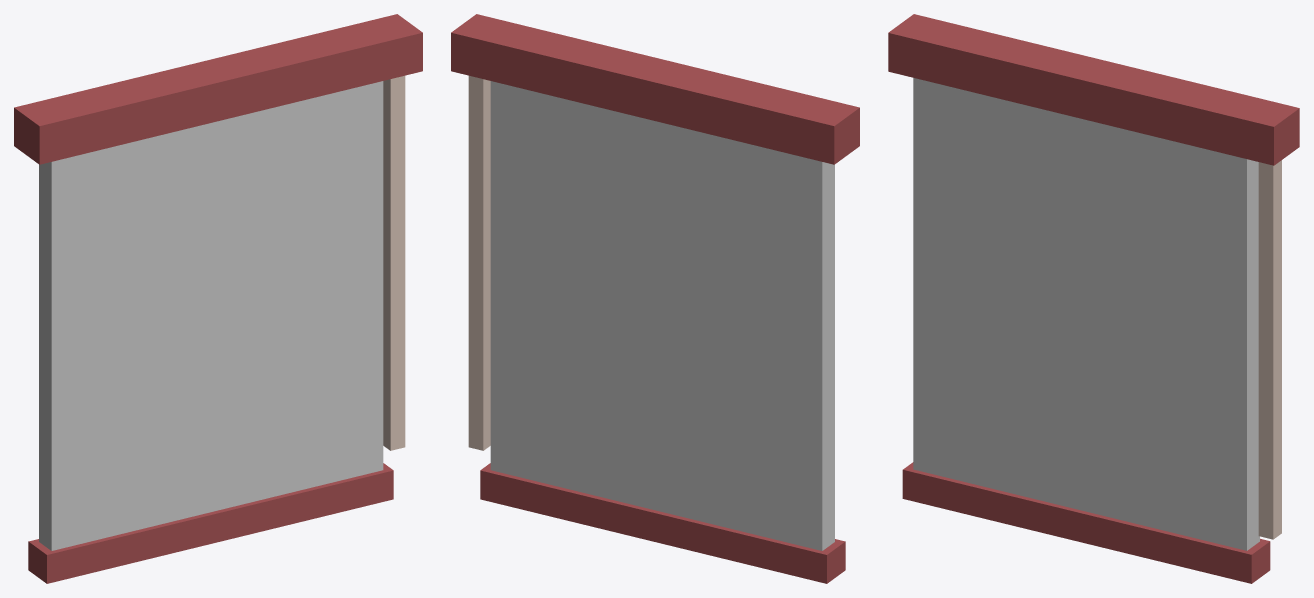
The model's file is curtain2.fbx.
The picture shows the model from 3 angles, left to right: view 1: azimuth 30°, elevation 25°; view 2: azimuth 150°, elevation 25°; view 3: azimuth 330°, elevation 25°; orthographic projection.
Parts seen in each view (by area): view 1: curtain, curtainSupport; view 2: curtain, curtainSupport; view 3: curtain, curtainSupport.
Boxes of the visible parts, x1,y1,x2,y2 form: curtain: [28, 81, 393, 583]; curtainSupport: [14, 14, 422, 450]; curtain: [480, 81, 845, 583]; curtainSupport: [451, 14, 859, 450]; curtain: [902, 78, 1270, 583]; curtainSupport: [888, 14, 1299, 539].
Bounding box in the file's own units: 312 × 360 × 36.
